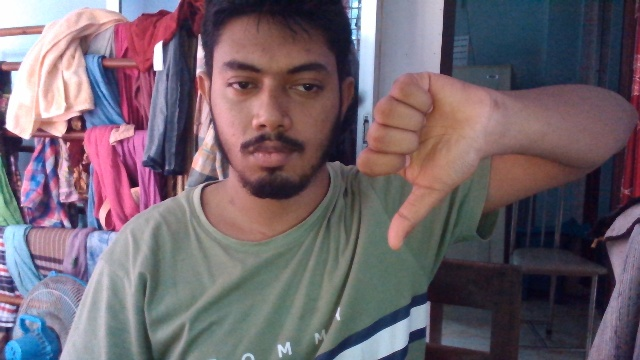no: (357, 59, 489, 254)
